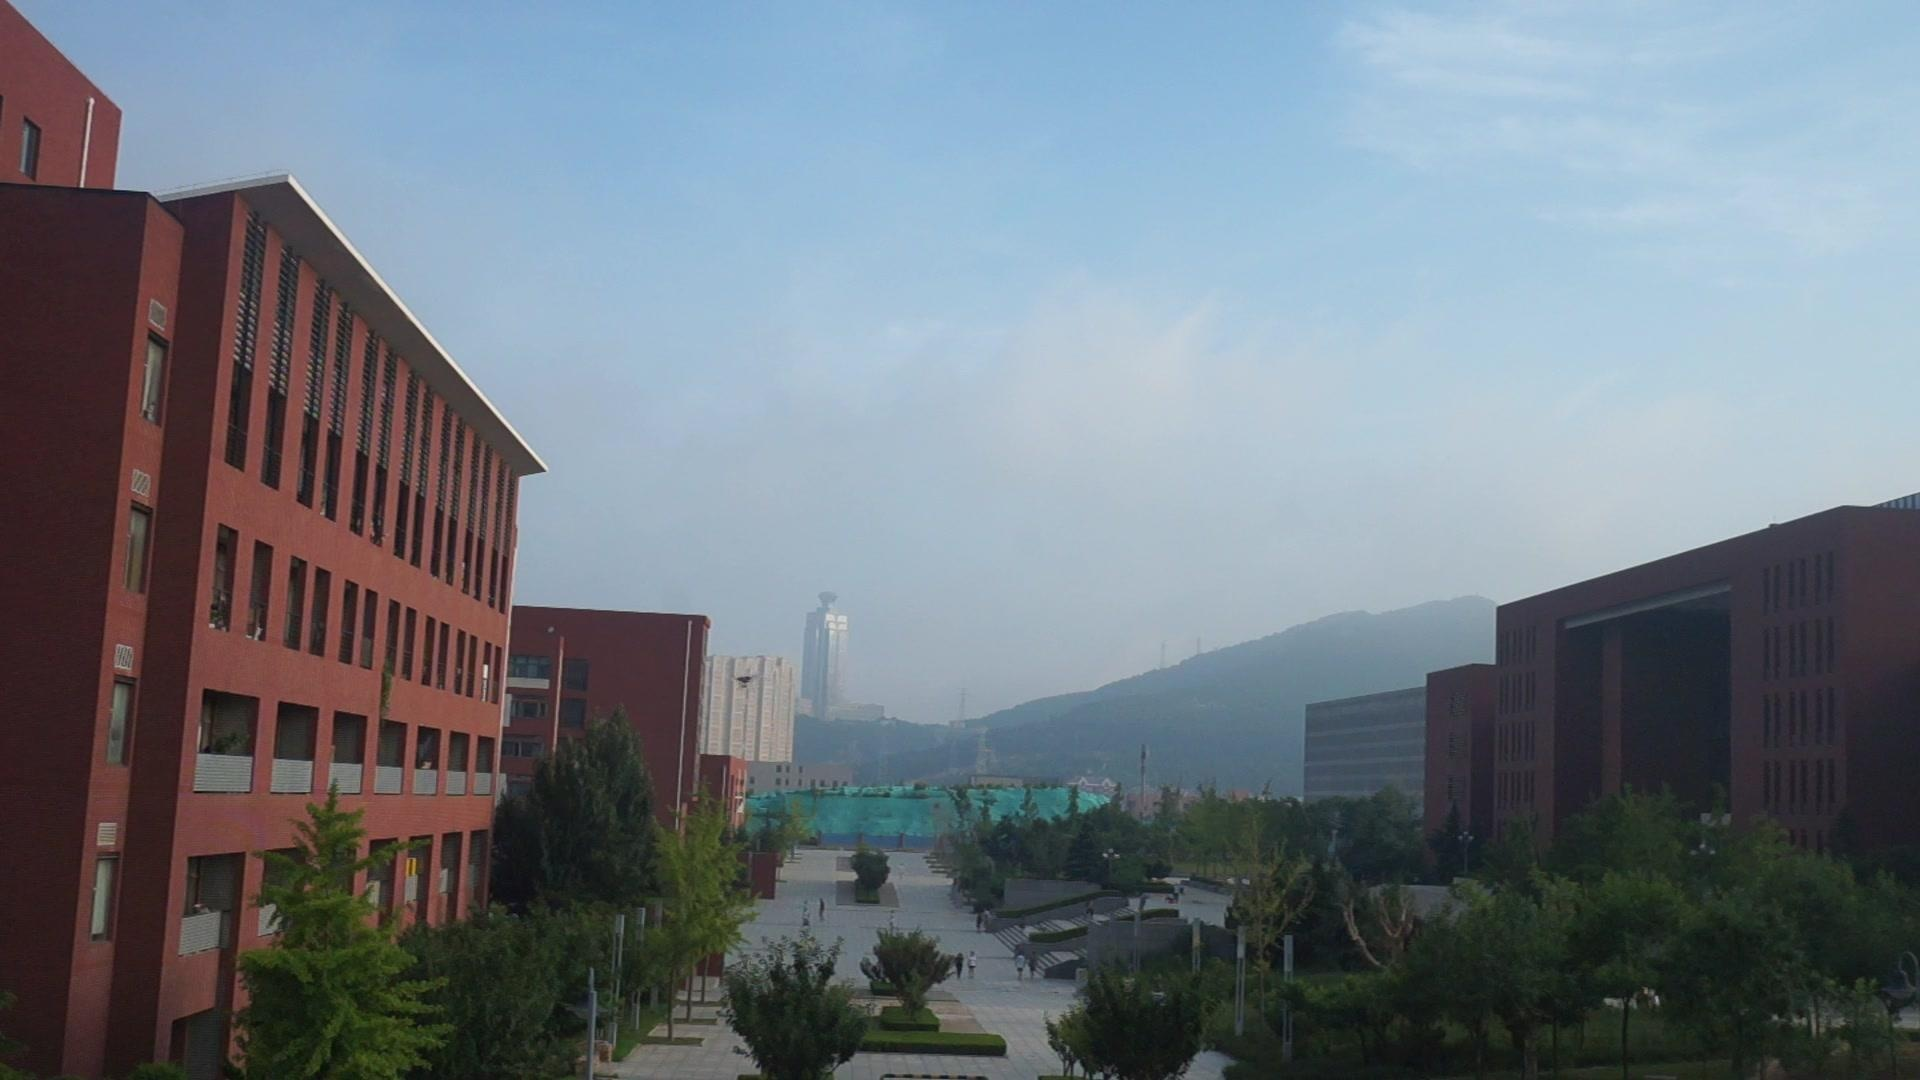UAV: (731, 675, 761, 688)
